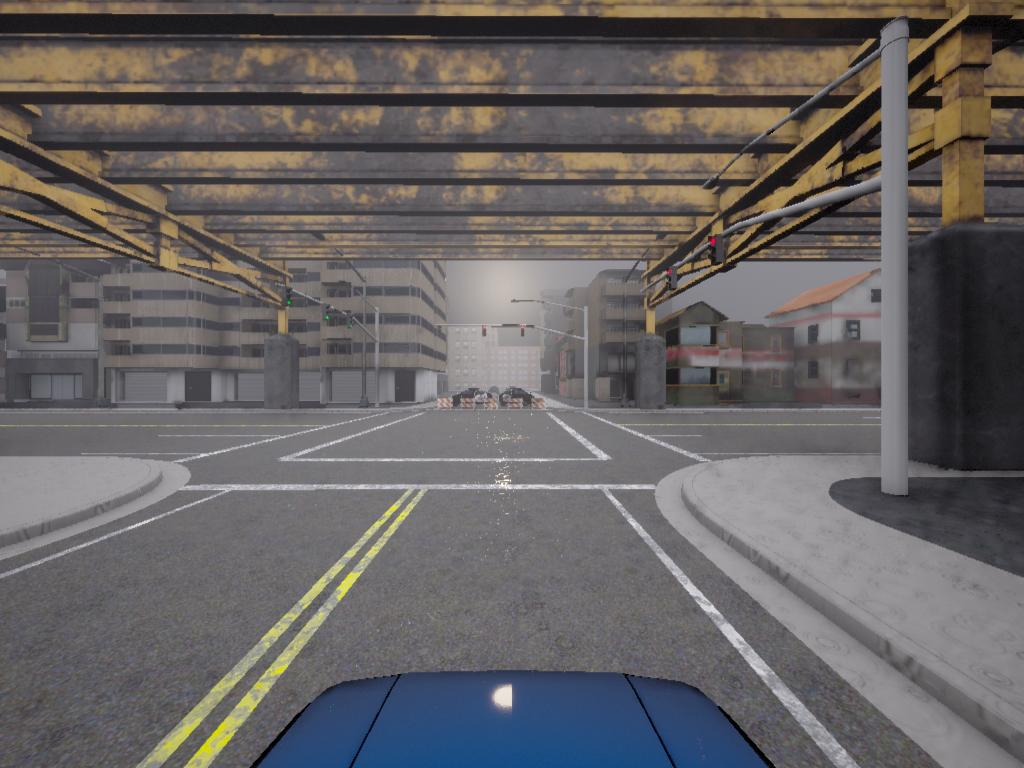traffic_light: (707, 234, 724, 267), (666, 267, 679, 292), (282, 283, 292, 313), (346, 309, 355, 332), (322, 302, 331, 324), (481, 325, 489, 340), (520, 325, 526, 341), (436, 324, 441, 342)
